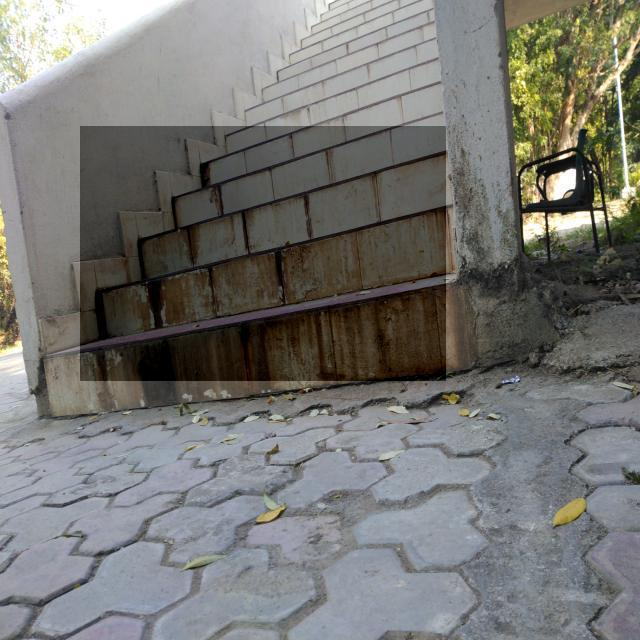stair: (80, 126, 446, 381)
